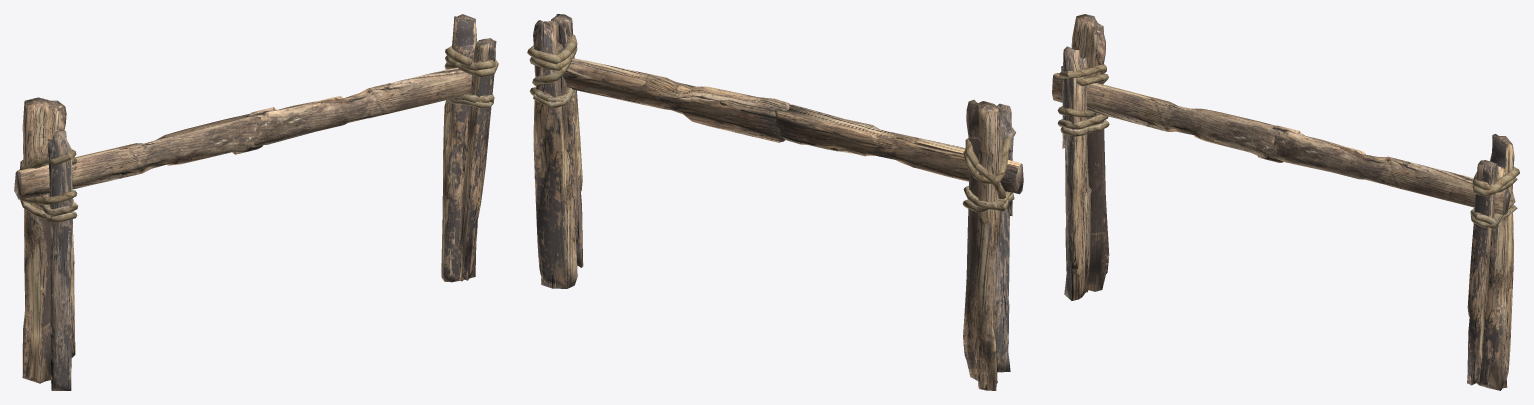
The model's file is Fence3.fbx.
3 views of the same model, side by side, from view 1: azimuth 30°, elevation 25°; view 2: azimuth 150°, elevation 25°; view 3: azimuth 330°, elevation 25° (orthographic). The views are drawn at different scales.
Parts seen in each view (by area): view 1: fence3_lod0; view 2: fence3_lod0; view 3: fence3_lod0.
Part boxes in pixels (x1,y1,x2,y2): fence3_lod0: (14,14,498,390); fence3_lod0: (527,14,1023,390); fence3_lod0: (1052,14,1519,390).
Size of what is drawn, in the model's own units: 322 by 182 by 40.67.
